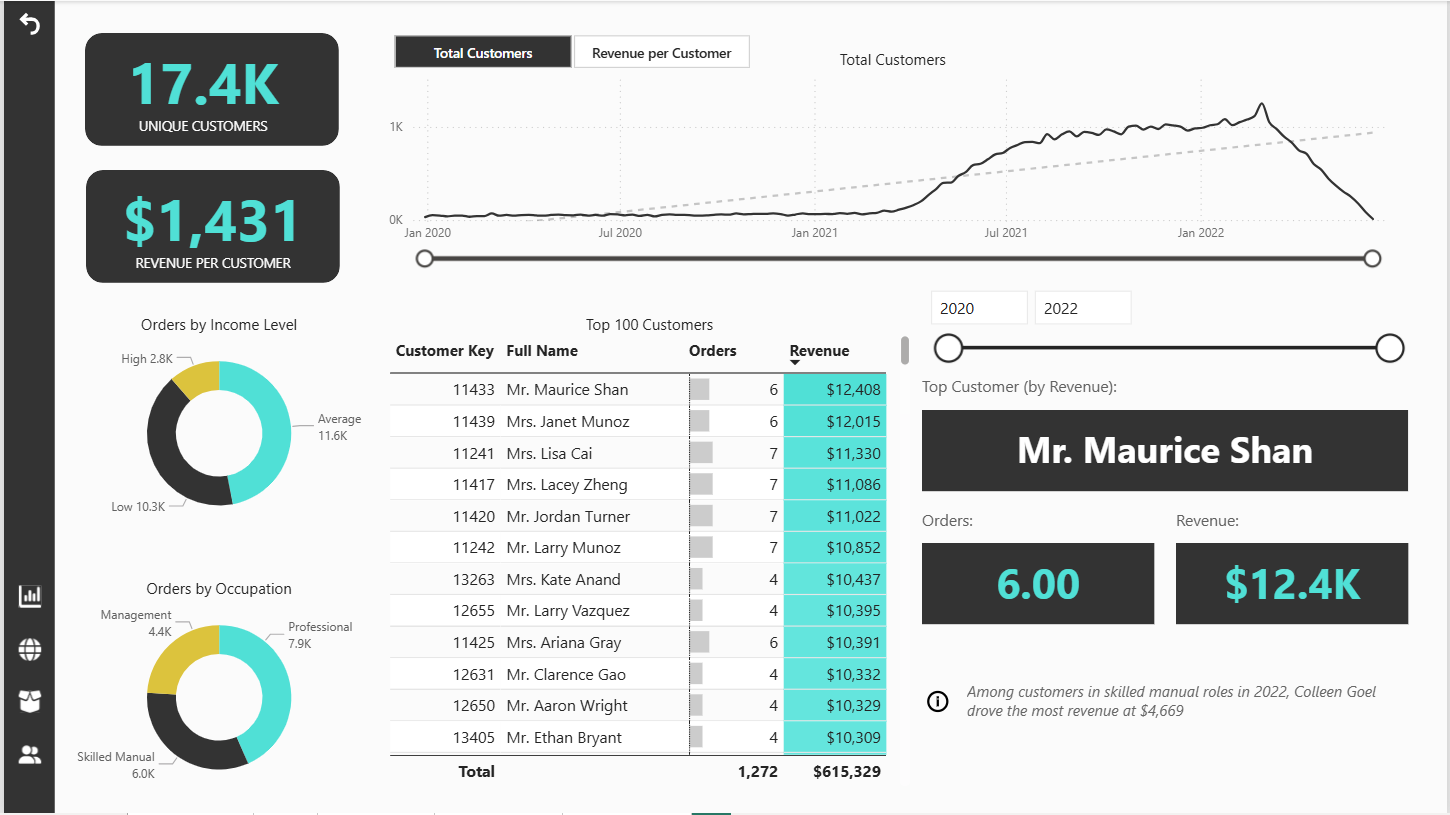

This screenshot's page, from the dashboard's own definition file:
{"tool":"powerbi","page":{"name":"Customer Detail","canvas":[1280,720],"ordinal":3},"visuals":[{"type":"shape","title":"Left Nav Background","box":[0,0,45,720],"z":0},{"type":"shape","box":[71.4,28.5,225.2,100.2],"z":1000},{"type":"actionButton","box":[0,508,45,39],"z":1000,"group":"g1"},{"type":"card","fields":{"Values":["Measure Table.Total Customers"]},"box":[49.1,3.6,255.5,150.9],"z":2000},{"type":"actionButton","box":[0,554.7,45,39],"z":2000,"group":"g1"},{"type":"shape","box":[72.3,150.3,225.2,100.2],"z":3000},{"type":"actionButton","box":[0,601,45,39],"z":3000,"group":"g1"},{"type":"card","fields":{"Values":["Measure Table.Average Revenue per Customer"]},"box":[57.3,125.5,255.4,150.7],"z":4000},{"type":"actionButton","box":[0,648,45,39],"z":4000,"group":"g1"},{"type":"lineChart","fields":{"Y":["Measure Table.Total Customers"],"Category":["Calendar Lookup.Date Hierarchy.Start of Year","Calendar Lookup.Date Hierarchy.Start of Month","Calendar Lookup.Date Hierarchy.Start of Week","Calendar Lookup.Date Hierarchy.Date"]},"box":[325.5,28.2,925.5,221.8],"z":5000},{"type":"donutChart","title":"Orders by Income Level","fields":{"Category":["Customer Lookup.Income Level"],"Y":["Measure Table.Total Orders"]},"box":[49,263,284,223],"z":6000},{"type":"donutChart","title":"Orders by Occupation","fields":{"Y":["Measure Table.Total Orders"],"Category":["Customer Lookup.Occupation"]},"box":[49,497,284,223],"z":7000},{"type":"tableEx","title":"Top 100 Customers","fields":{"Values":["Customer Lookup.CustomerKey","Customer Lookup.Full Name","Measure Table.Total Orders","Measure Table.Total Revenue"]},"box":[325,263,494,449],"z":8000},{"type":"card","fields":{"Values":["Measure Table.Full Name (Customer Detail)"]},"box":[814,363,431,72],"z":9000},{"type":"card","fields":{"Values":["Measure Table.Total Orders (Customer Detail)"]},"box":[814,481,206,72],"z":10000},{"type":"card","fields":{"Values":["Measure Table.Total Revenue (Customer Detail)"]},"box":[1039,481,206,72],"z":11000},{"type":"textbox","box":[814,332,196,31],"z":12000},{"type":"textbox","box":[814,450,118,31],"z":13000},{"type":"textbox","box":[1039,450,116,31],"z":14000},{"type":"slicer","fields":{"Values":["Calendar Lookup.Date.Variation.Date Hierarchy.Year"]},"box":[814,252,431,80],"z":15000},{"type":"actionButton","box":[814,586,431,70],"z":16000},{"type":"actionButton","box":[0,0,45,40],"z":17000},{"type":"group","id":"g1","title":"Navigation Buttons","box":[0,508,45,179],"z":18000},{"type":"slicer","fields":{"Values":["Customer Metric Selection.Customer Metric Selection"]},"box":[325,28,355,33],"z":19000}]}

Visuals, with their boxes on the page's 1280x720 design canvas (x1, y1, x2, y2). These are canvas units, not pixel positions in the 1450x815 screenshot, which may show the page scaled, cropped or inside an application window:
"Left Nav Background" shape: rect(0, 0, 45, 720)
shape: rect(71, 28, 297, 129)
actionButton: rect(0, 508, 45, 547)
card - Measure Table.Total Customers: rect(49, 4, 305, 154)
actionButton: rect(0, 555, 45, 594)
shape: rect(72, 150, 298, 250)
actionButton: rect(0, 601, 45, 640)
card - Measure Table.Average Revenue per Customer: rect(57, 126, 313, 276)
actionButton: rect(0, 648, 45, 687)
lineChart - Measure Table.Total Customers x Calendar Lookup.Date Hierarchy.Start of Year: rect(326, 28, 1251, 250)
"Orders by Income Level" donutChart: rect(49, 263, 333, 486)
"Orders by Occupation" donutChart: rect(49, 497, 333, 720)
"Top 100 Customers" tableEx: rect(325, 263, 819, 712)
card - Measure Table.Full Name (Customer Detail): rect(814, 363, 1245, 435)
card - Measure Table.Total Orders (Customer Detail): rect(814, 481, 1020, 553)
card - Measure Table.Total Revenue (Customer Detail): rect(1039, 481, 1245, 553)
textbox: rect(814, 332, 1010, 363)
textbox: rect(814, 450, 932, 481)
textbox: rect(1039, 450, 1155, 481)
slicer - Calendar Lookup.Date.Variation.Date Hierarchy.Year: rect(814, 252, 1245, 332)
actionButton: rect(814, 586, 1245, 656)
actionButton: rect(0, 0, 45, 40)
"Navigation Buttons" group: rect(0, 508, 45, 687)
slicer - Customer Metric Selection.Customer Metric Selection: rect(325, 28, 680, 61)
